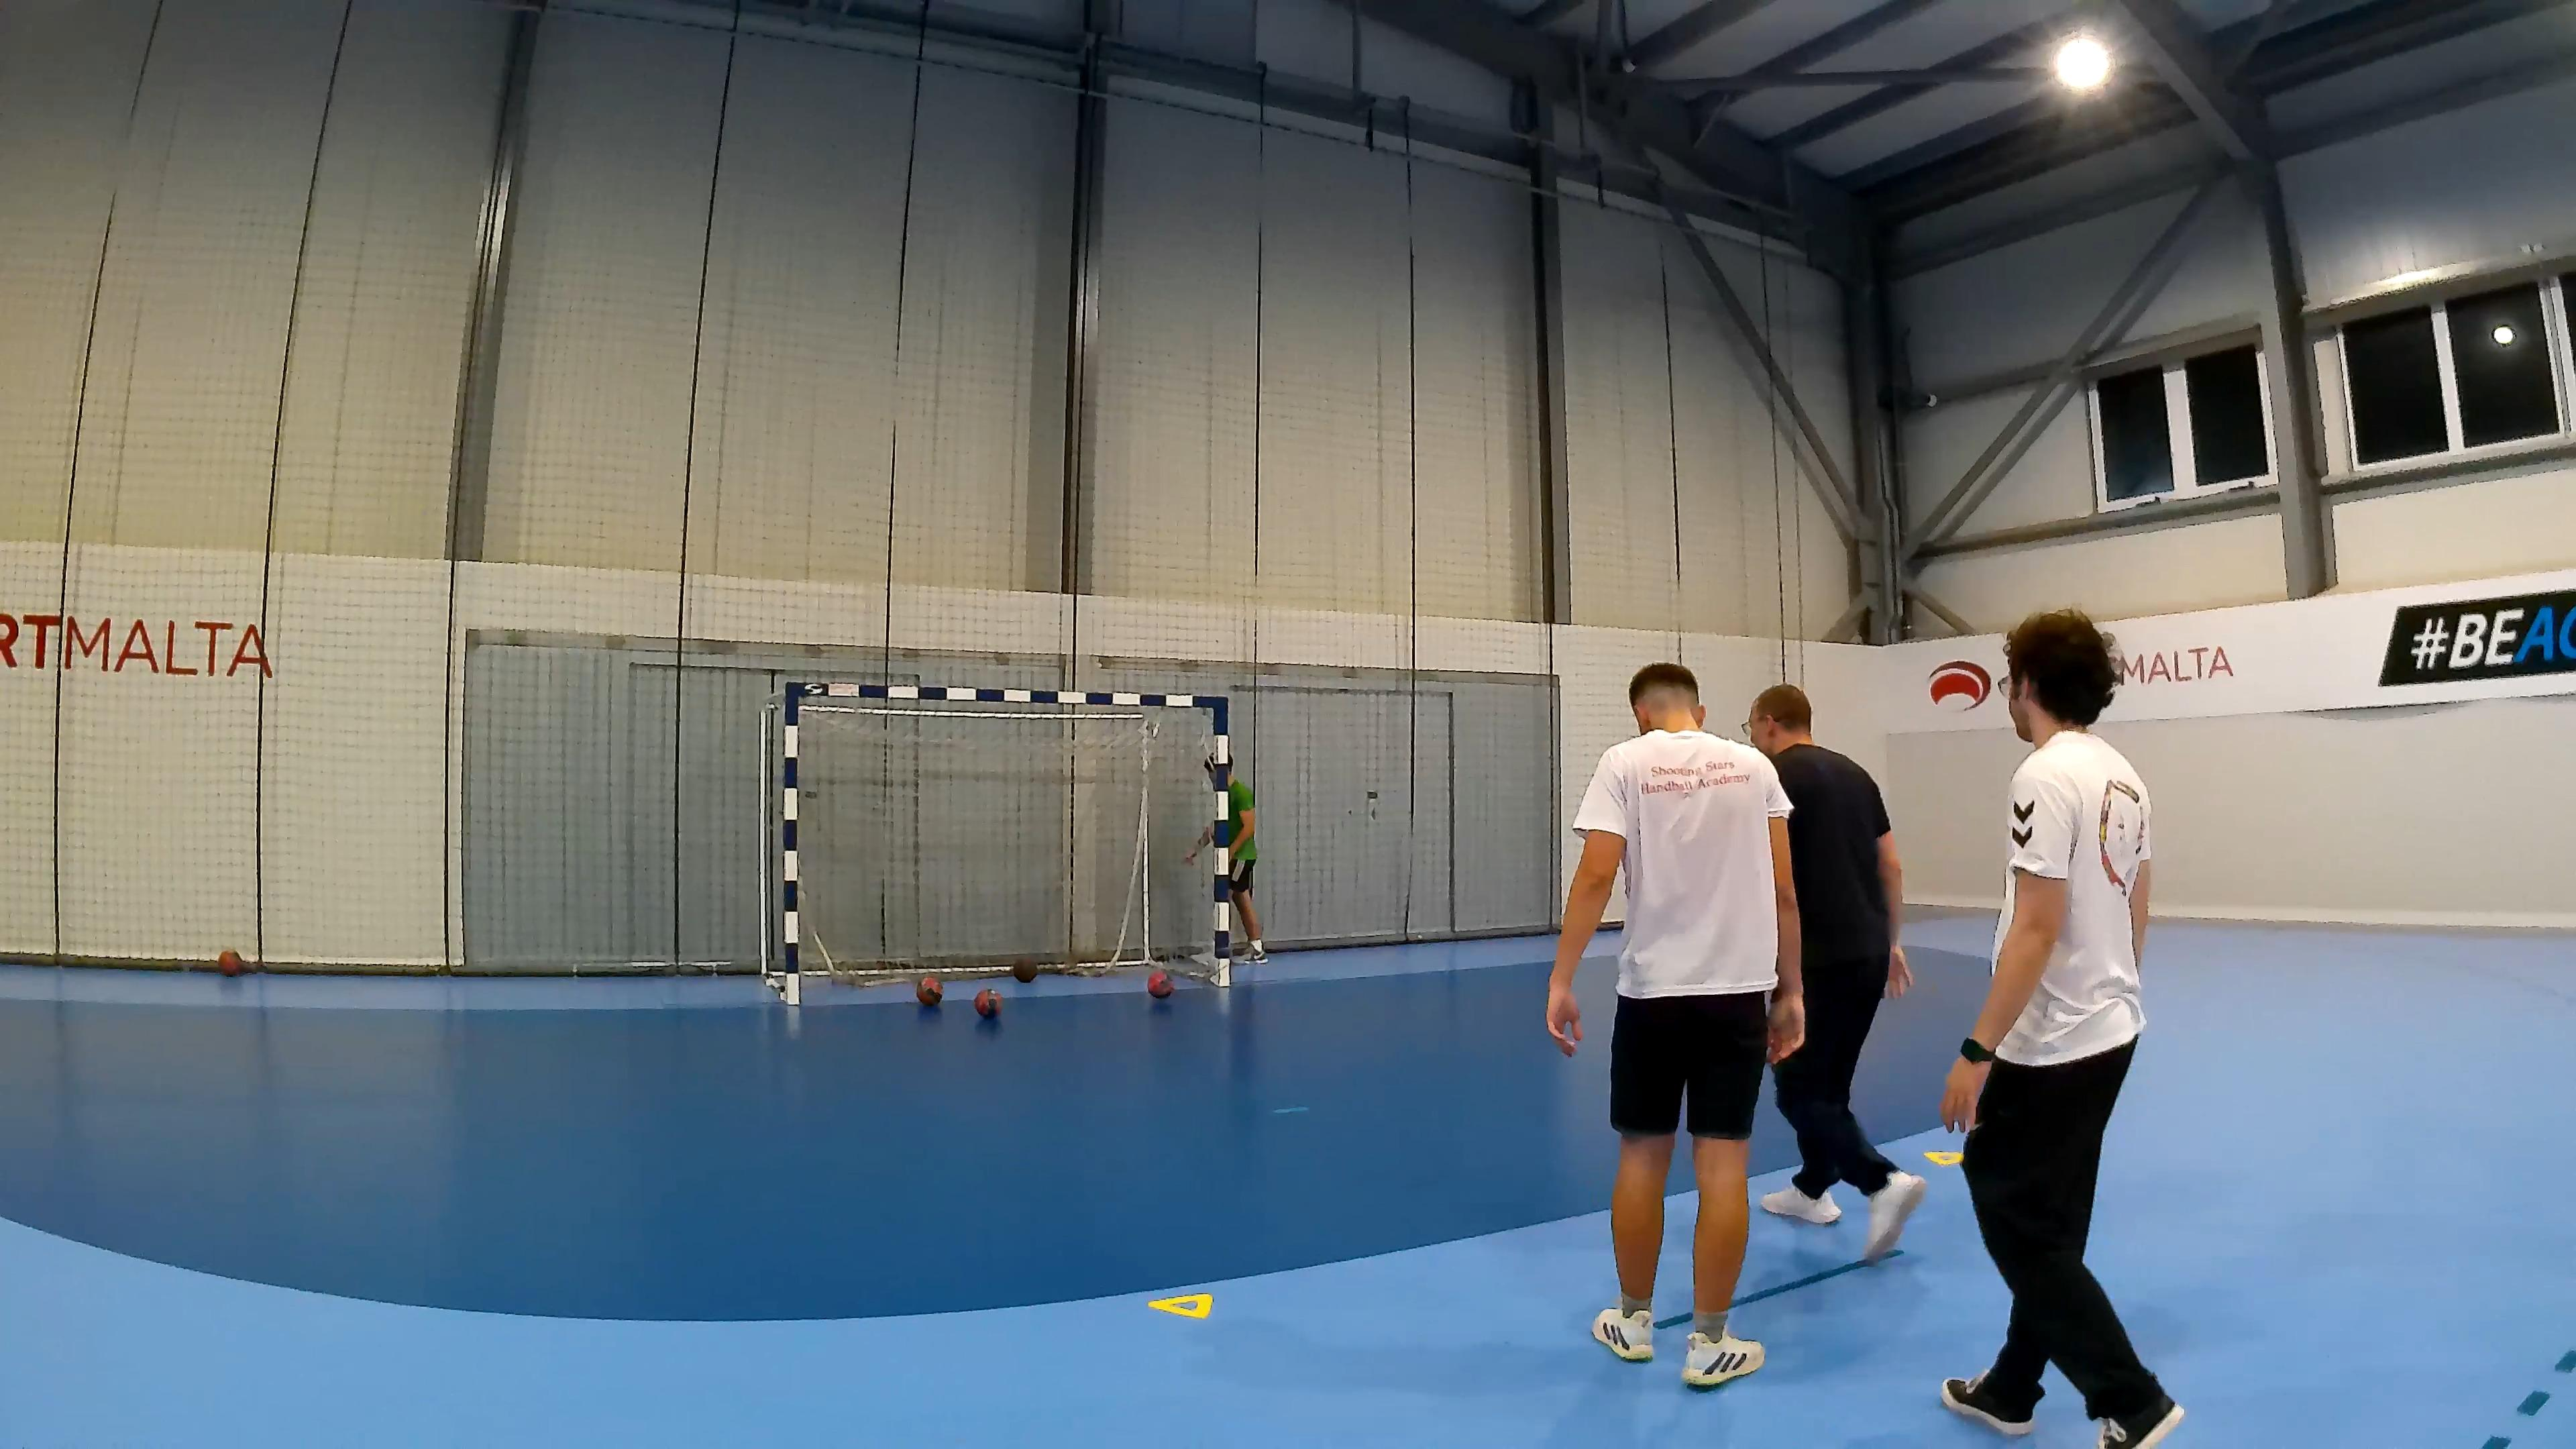handball: (973, 985, 1001, 1016), (1146, 970, 1173, 998), (916, 975, 941, 1005), (216, 948, 241, 975), (1010, 957, 1035, 982)
